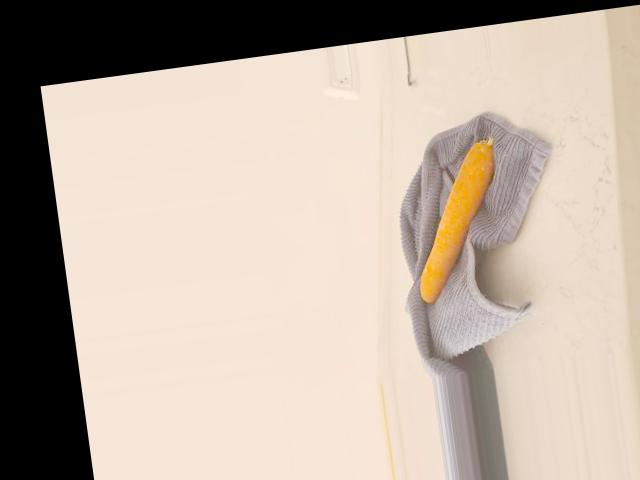carrot: (403, 142, 518, 305)
